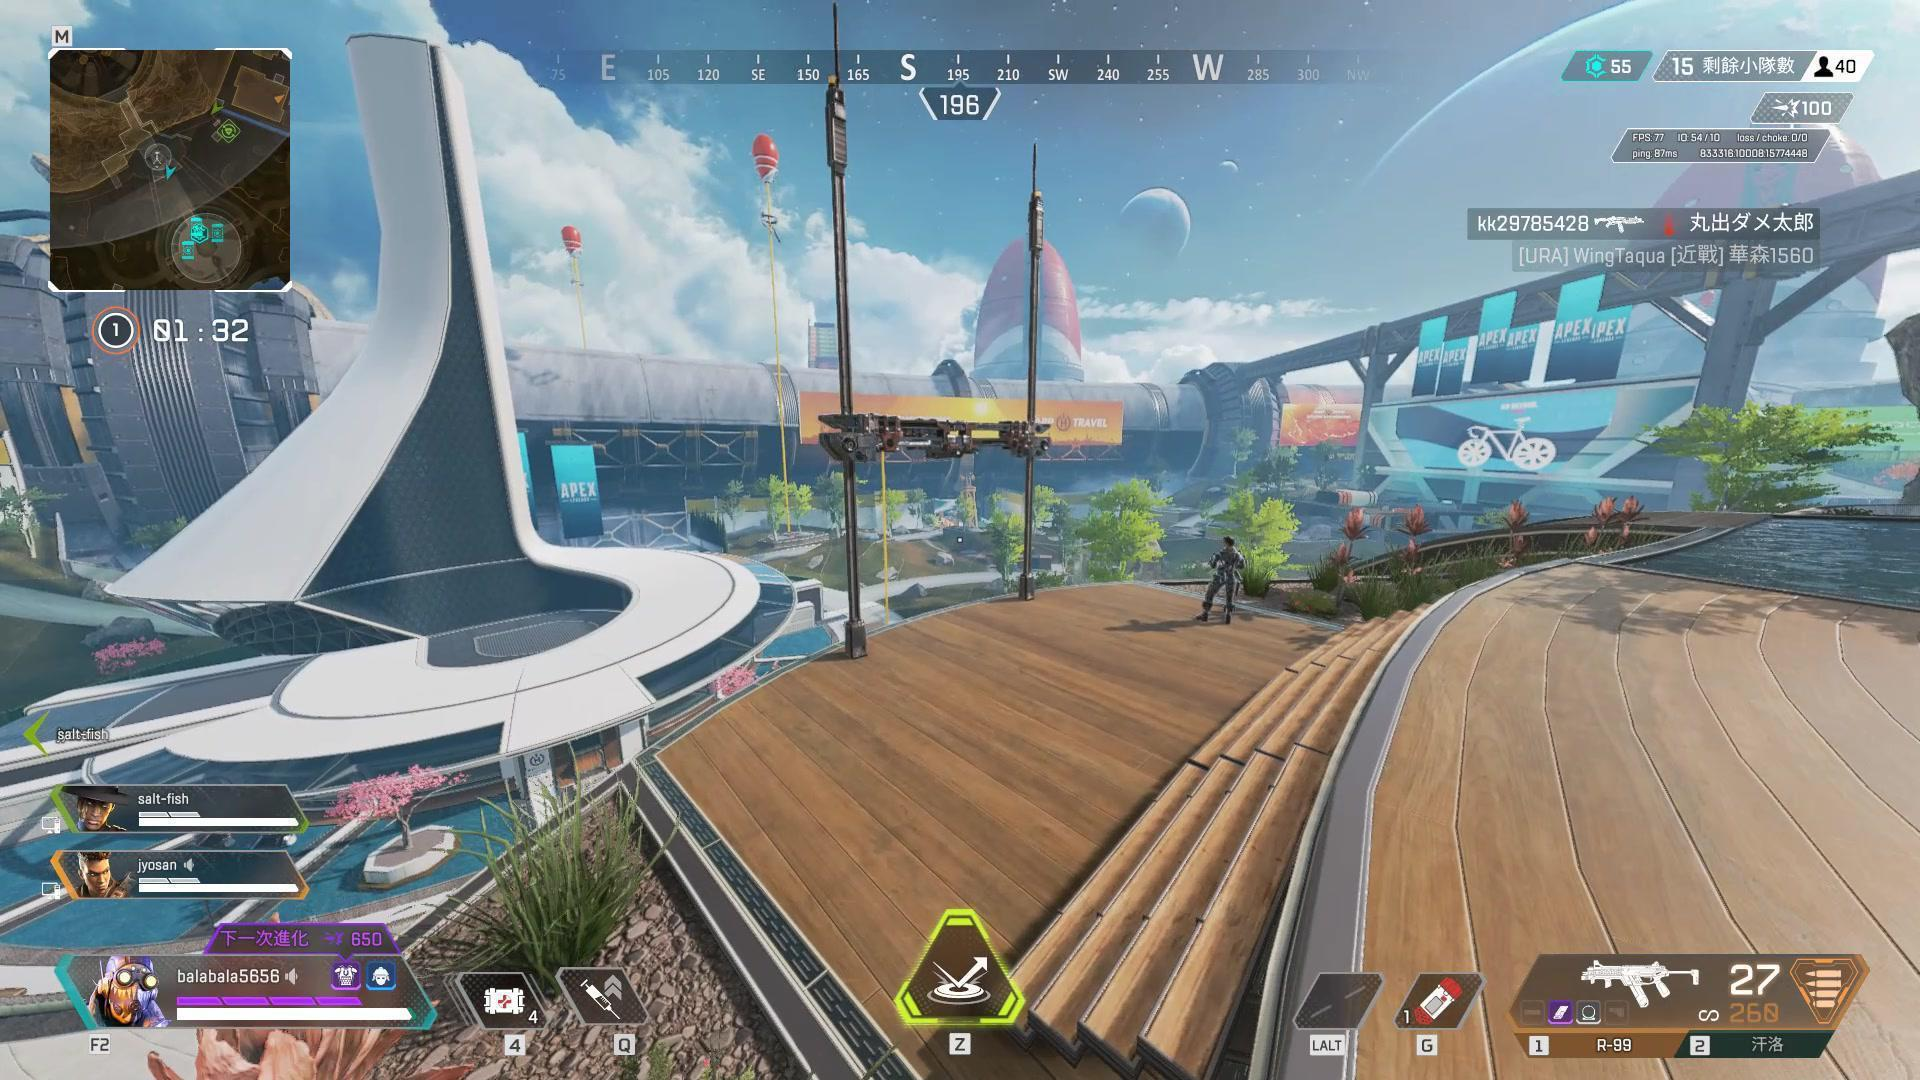avatar: (1204, 534, 1246, 624)
